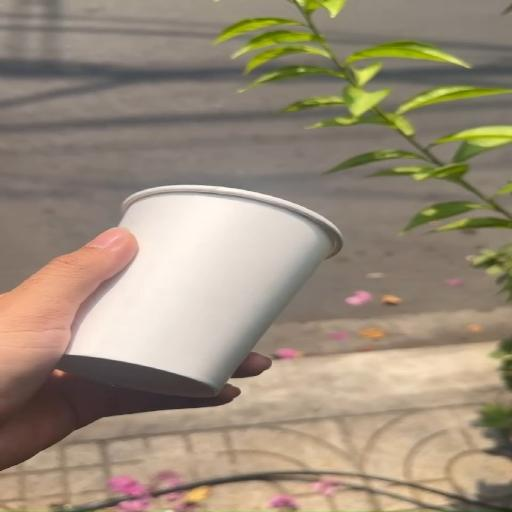Ly_giay: (58, 185, 341, 397)
